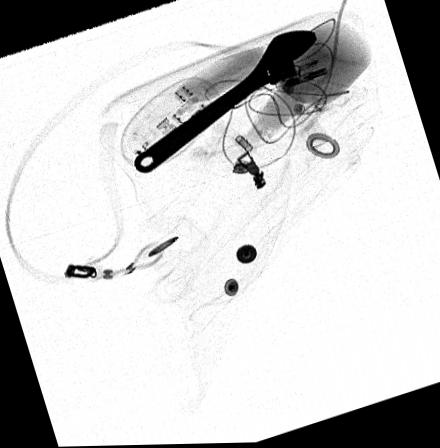Wrench: (133, 29, 320, 176)
